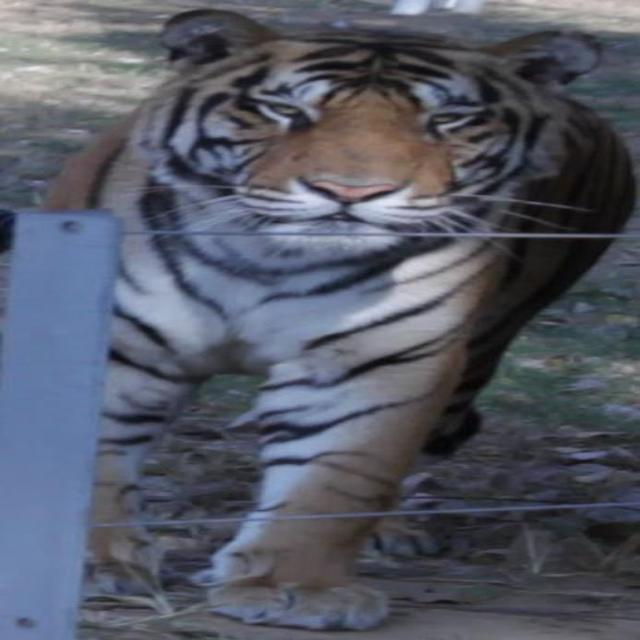tiger: (1, 5, 636, 632)
